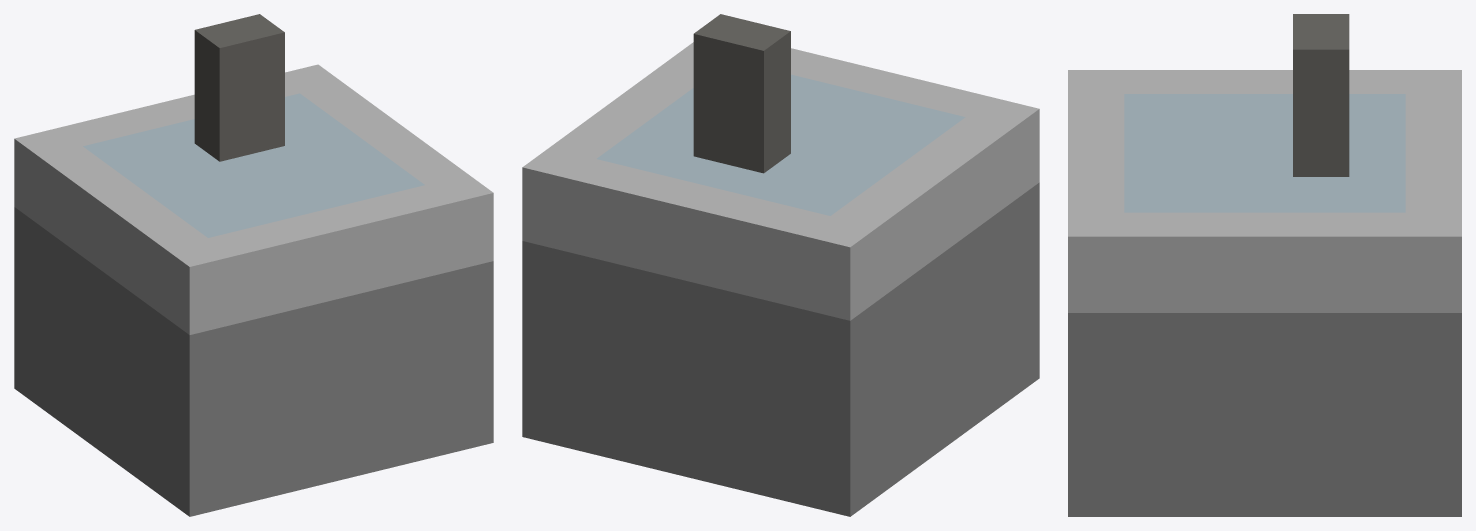
Rendered from fregadero_agrietada_01.glb.
The picture shows the model from 3 angles, left to right: view 1: azimuth 30°, elevation 25°; view 2: azimuth 150°, elevation 25°; view 3: azimuth 270°, elevation 25°; orthographic projection. The views are drawn at different scales.
Parts seen in each view (by area): view 1: fregadero_agrietada; view 2: fregadero_agrietada; view 3: fregadero_agrietada.
Boxes of the visible parts, box(x1,y1,x2,y2) form: fregadero_agrietada: box(14, 14, 493, 516); fregadero_agrietada: box(522, 14, 1039, 516); fregadero_agrietada: box(1068, 14, 1461, 516).
Bounding box in the file's own units: 1 × 1.14 × 1.
